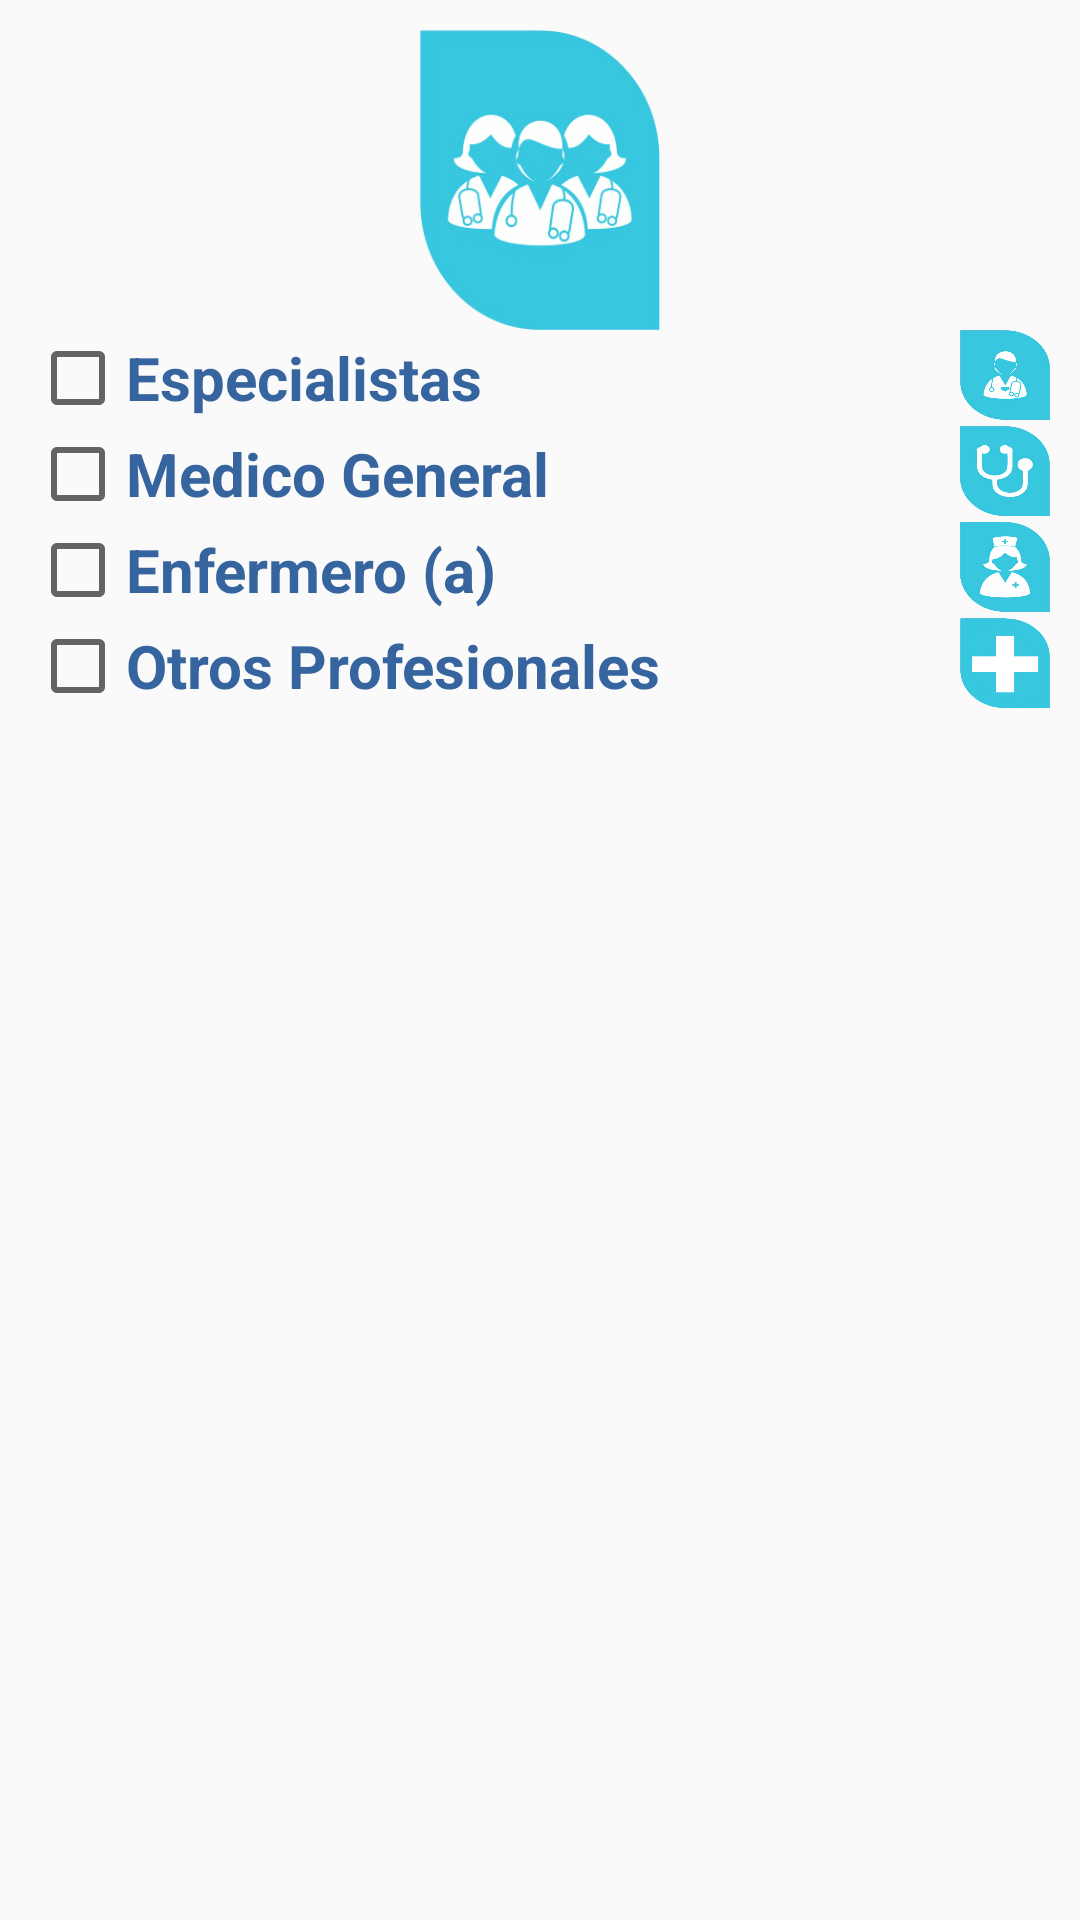

Icons on this 1080×1920 Android screen, each with its box as (x1, y1, x2, y2):
Mis Médicos: (420, 30, 660, 330)
